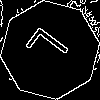L: (25, 25, 78, 74)
